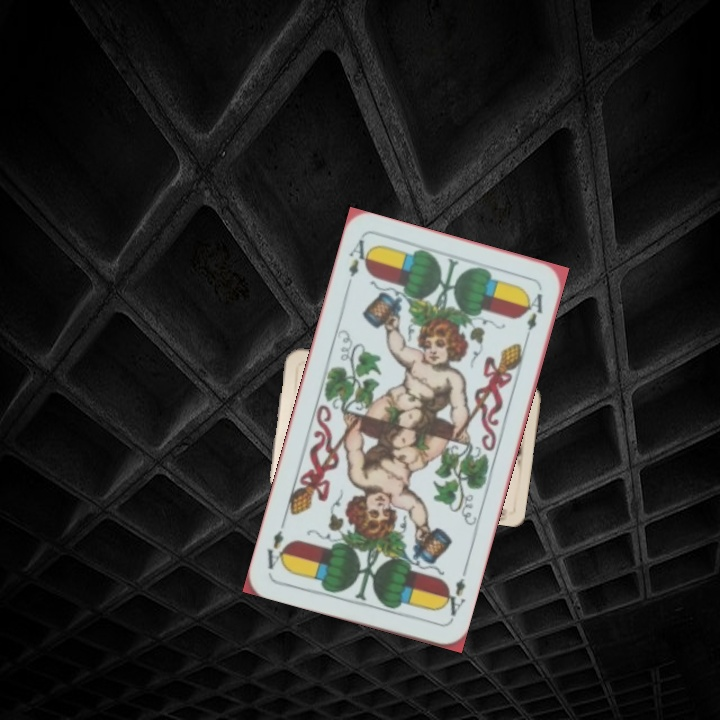EA: (342, 235, 373, 293), (437, 574, 468, 623)
